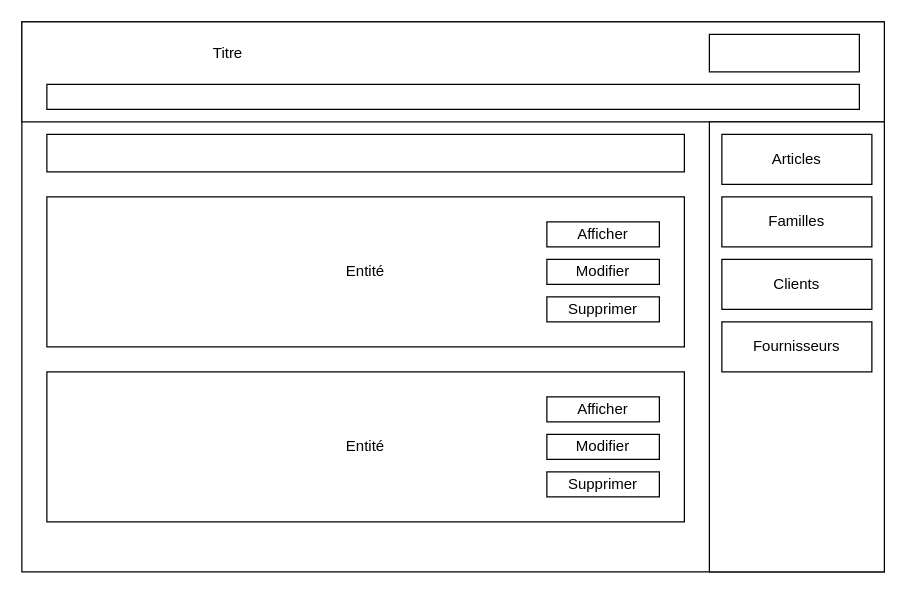
Image size: 906x594. Some labels were removed from this diagram. Here are the shapes that lost their labels. From the top down, the centre of each, then its label:
[783,52]: Quitter
[452,96]: Recherche
[365,152]: Ajouter un élément
